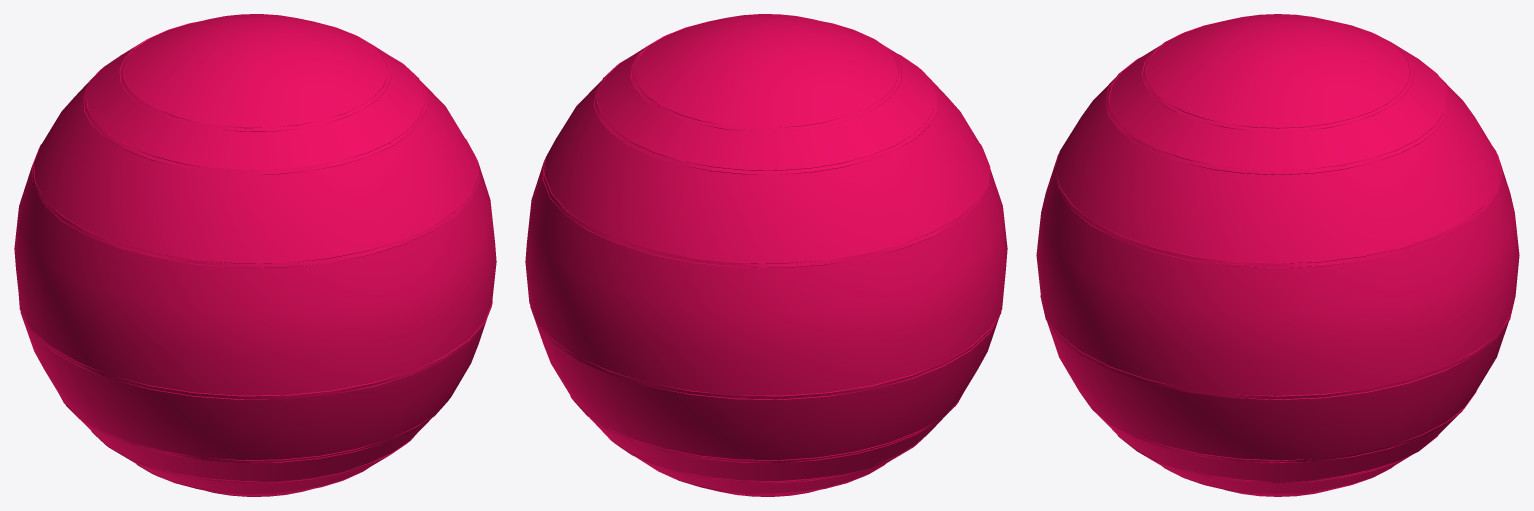
Rendered from Fitnes ball 2.FBX.
3 renders of one model, left to right at view 1: azimuth 30°, elevation 25°; view 2: azimuth 150°, elevation 25°; view 3: azimuth 270°, elevation 25°, orthographic.
Visible parts, largest first — view 1: fitnes ball 2; view 2: fitnes ball 2; view 3: fitnes ball 2.
Part boxes in pixels (bbox=[...]): fitnes ball 2: bbox=[14, 14, 496, 496]; fitnes ball 2: bbox=[525, 14, 1007, 496]; fitnes ball 2: bbox=[1036, 14, 1519, 496].
Bounding box in the file's own units: 64.59 × 64.59 × 64.59.
